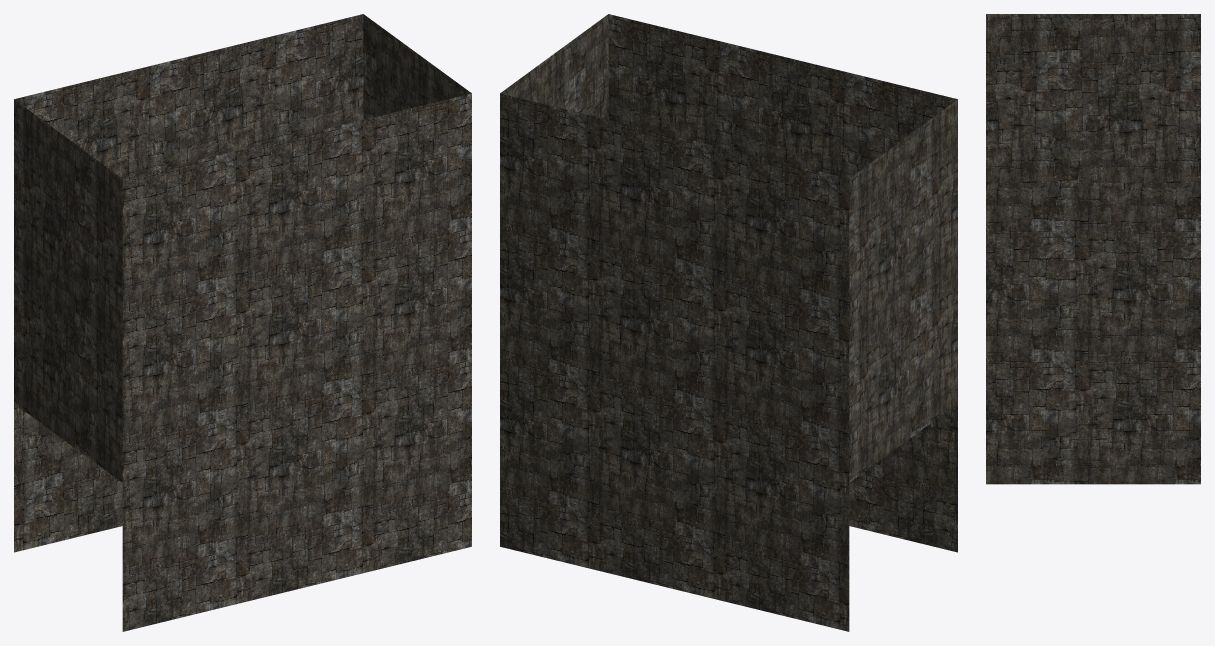
Rendered from Module13B.fbx.
3 renders of one model, left to right at view 1: azimuth 30°, elevation 25°; view 2: azimuth 150°, elevation 25°; view 3: azimuth 270°, elevation 25°, orthographic.
Visible parts, largest first — view 1: polySurface9; view 2: polySurface9; view 3: polySurface9.
Boxes of the visible parts, x1,y1,x2,y2 form: polySurface9: [14, 14, 471, 631]; polySurface9: [500, 14, 957, 631]; polySurface9: [986, 14, 1200, 484].
Bounding box in the file's own units: 18.59 × 23.05 × 10.
